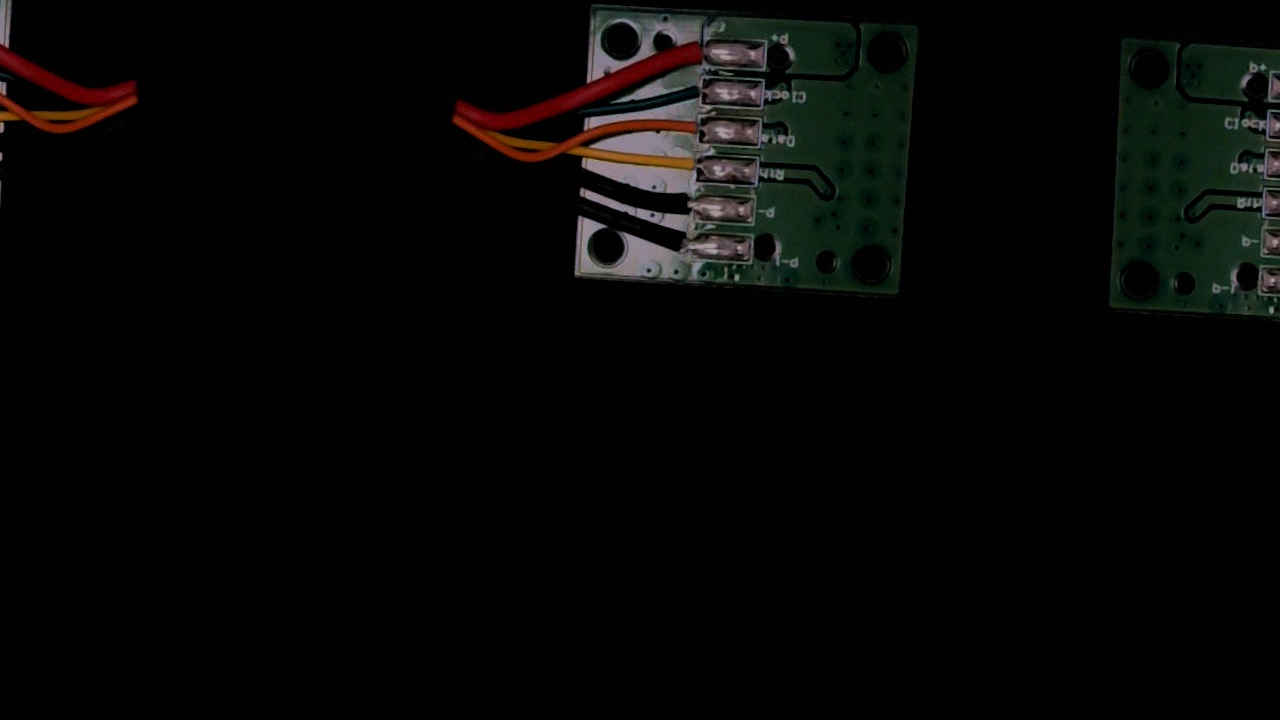Black: (653, 190, 710, 220)
Black1: (649, 227, 707, 260)
Green: (667, 73, 720, 107)
Orange: (662, 111, 716, 146)
Red: (669, 36, 724, 65)
Yellow: (653, 149, 712, 184)
